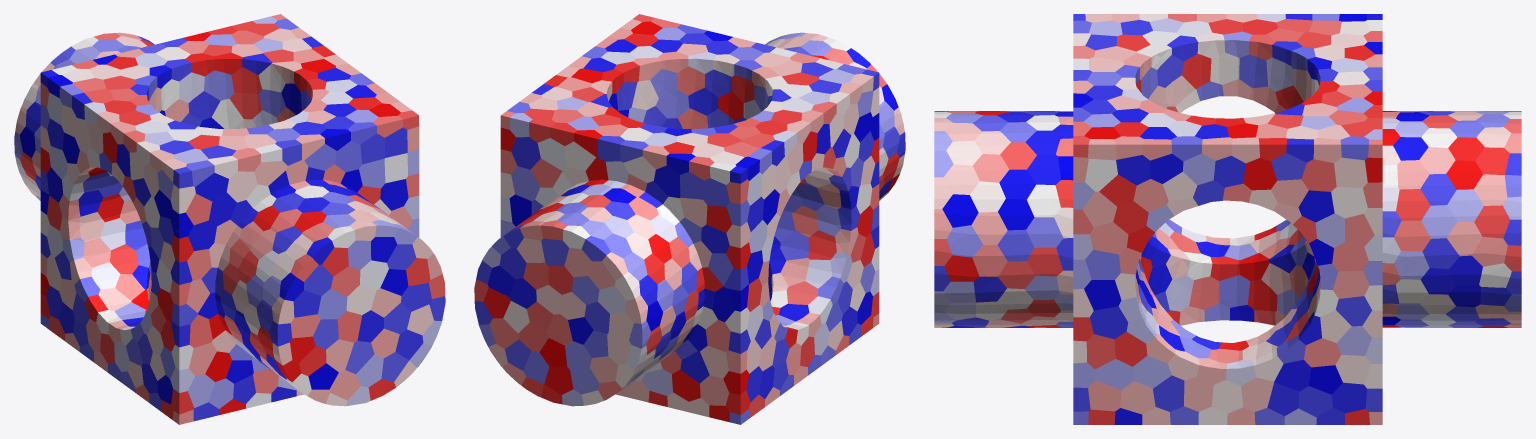
Rendered from Ours_1000_block_Iter28_RVD.obj.
3 views of the same model, side by side, from view 1: azimuth 30°, elevation 25°; view 2: azimuth 150°, elevation 25°; view 3: azimuth 270°, elevation 25° (orthographic). The views are drawn at different scales.
Visible parts, largest first — view 1: 3D_Object; view 2: 3D_Object; view 3: 3D_Object.
Part boxes in pixels (x1,y1,x2,y2): 3D_Object: (14, 14, 445, 424); 3D_Object: (474, 14, 905, 424); 3D_Object: (934, 14, 1521, 424).
Bounding box in the file's own units: 20 × 20 × 38.
1 material, 1 textured.
